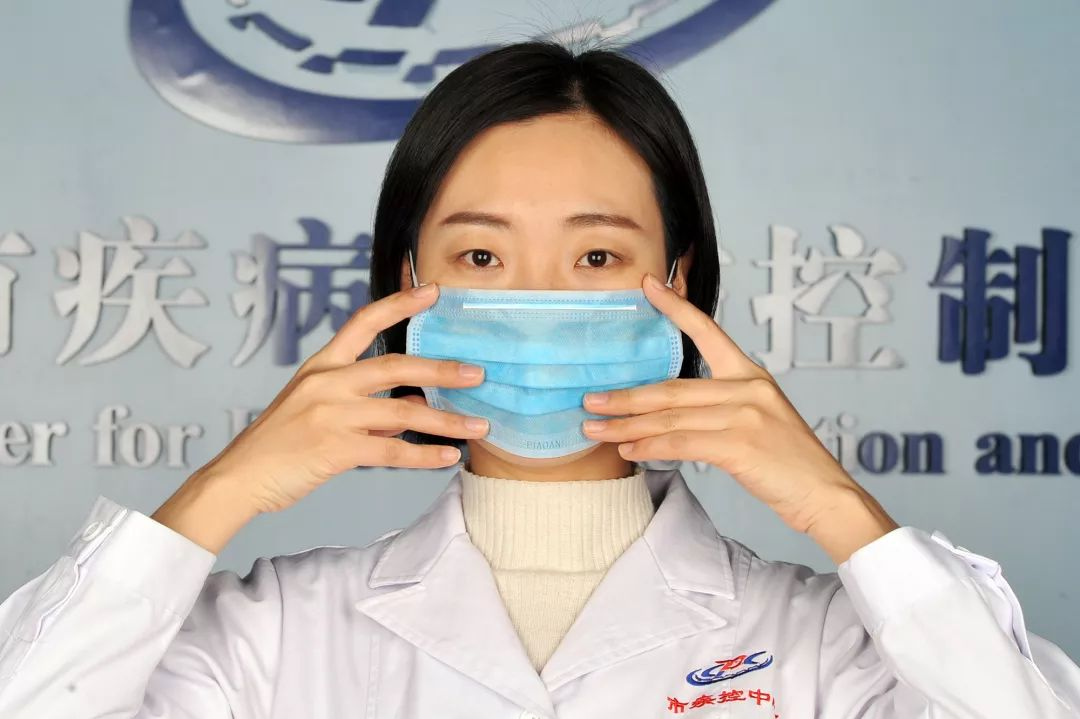with_mask: (382, 79, 717, 469)
